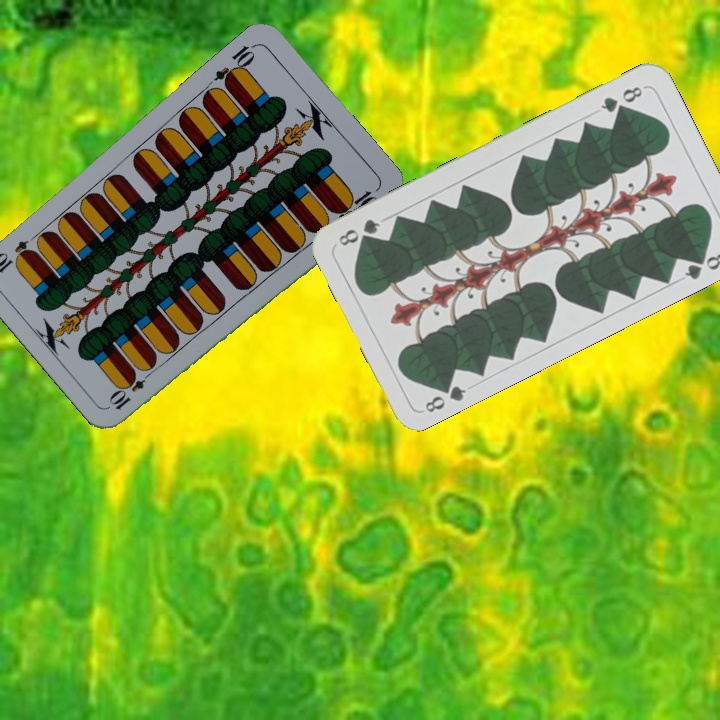E10: (210, 40, 259, 90), (106, 365, 156, 413)
G8: (420, 376, 469, 416), (596, 82, 645, 116)
